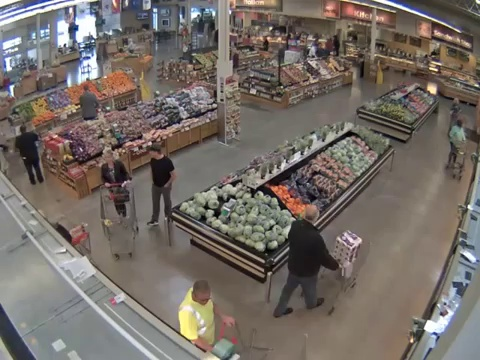face: (196, 289, 209, 305), (149, 145, 159, 159), (104, 151, 114, 164)
